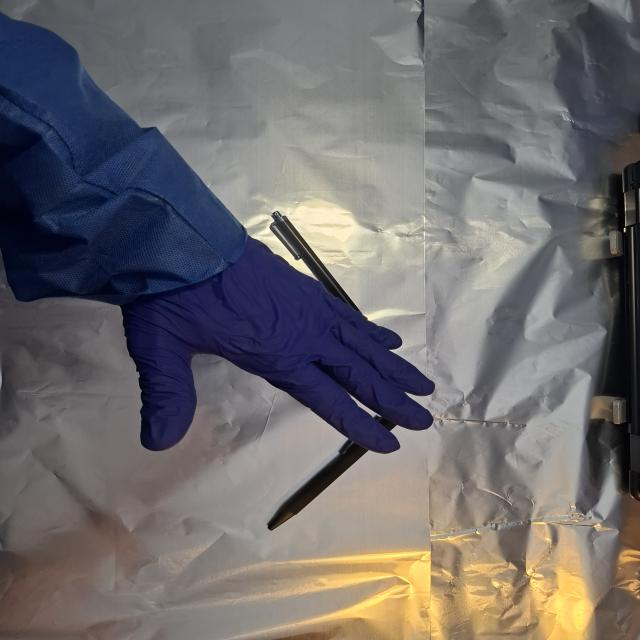glove_on: (116, 234, 438, 456)
